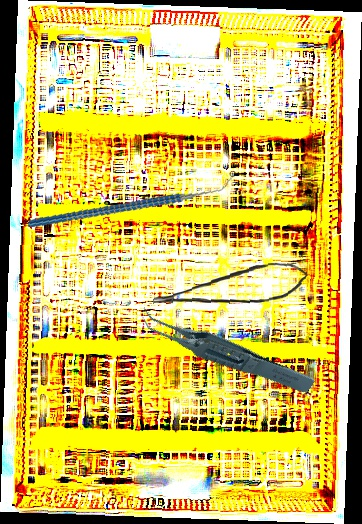Chopper: (27, 146, 234, 257)
Micro Scissor: (151, 259, 309, 310)
Tissue Forceps: (135, 272, 317, 426)
